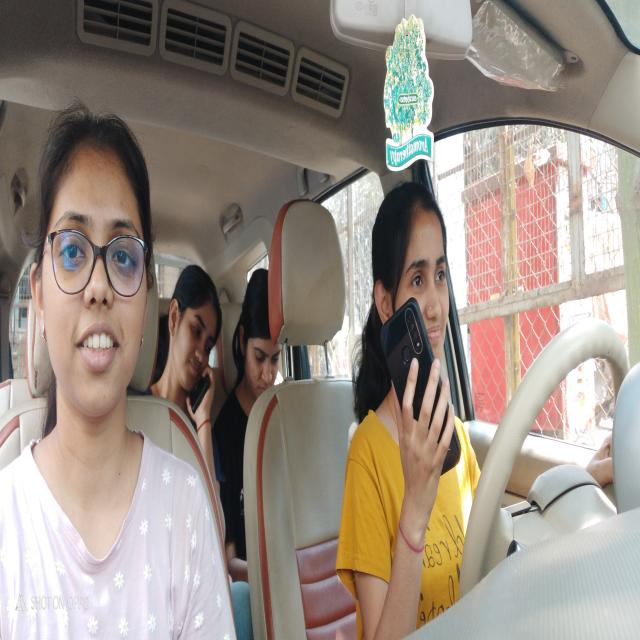mobile: (380, 292, 448, 476)
person: (32, 88, 157, 428), (370, 186, 462, 371), (165, 244, 222, 429), (236, 264, 280, 412)
